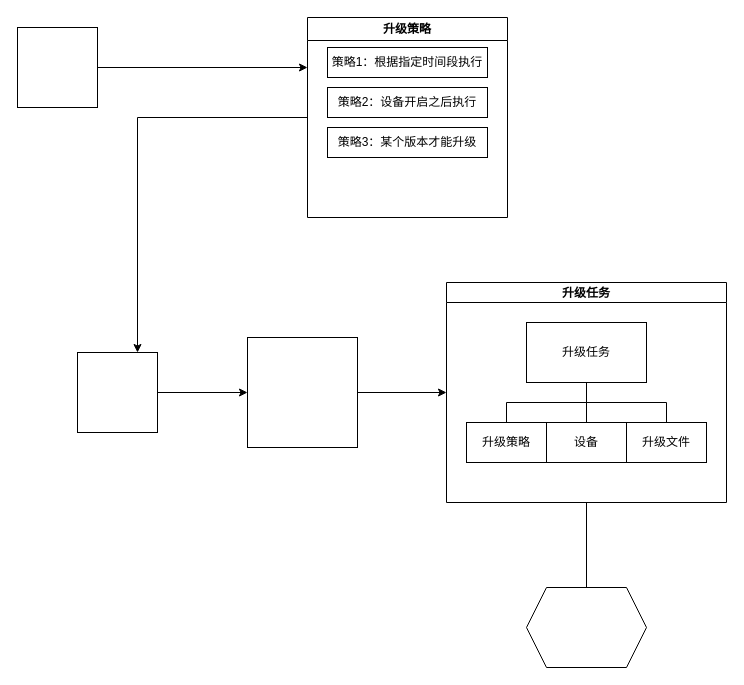
The diagram is 744 pixels wide and 685 high, and some of its shapes have lost their labels. The centre of each missing label's shape, as x and y in pixels:
制作策略: (57,67)
升级任务，每个设备绑定对应的升级策略，任务和策略分离，保证策略修改不影响当前正在执行的任务: (302,392)
升级服务端: (586,627)
选中合适策略，制作任务: (117,392)
